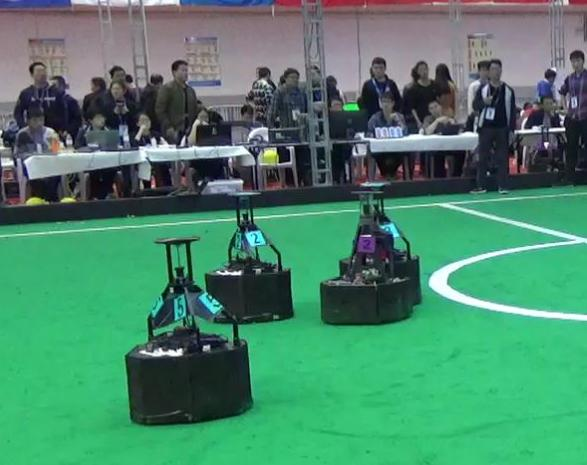robot: (107, 231, 257, 427), (312, 187, 426, 330), (204, 190, 303, 325)
